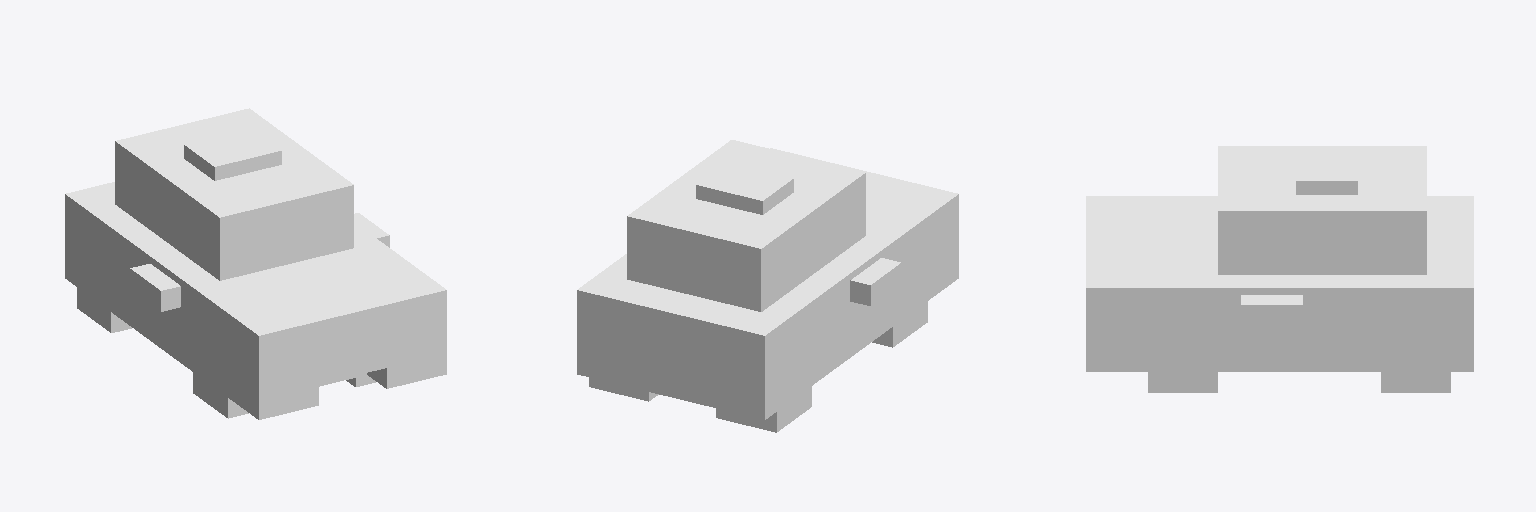
Rendered from taxi.obj.
3 renders of one model, left to right at view 1: azimuth 30°, elevation 25°; view 2: azimuth 150°, elevation 25°; view 3: azimuth 270°, elevation 25°, orthographic.
Parts seen in each view (by area): view 1: object 1; view 2: object 1; view 3: object 1.
Boxes of the visible parts, box(x1,y1,x2,y2) form: object 1: box(65, 108, 446, 419); object 1: box(577, 140, 958, 432); object 1: box(1086, 146, 1473, 392).
Size of the model in its own units: 3.4 by 2.6 by 5.